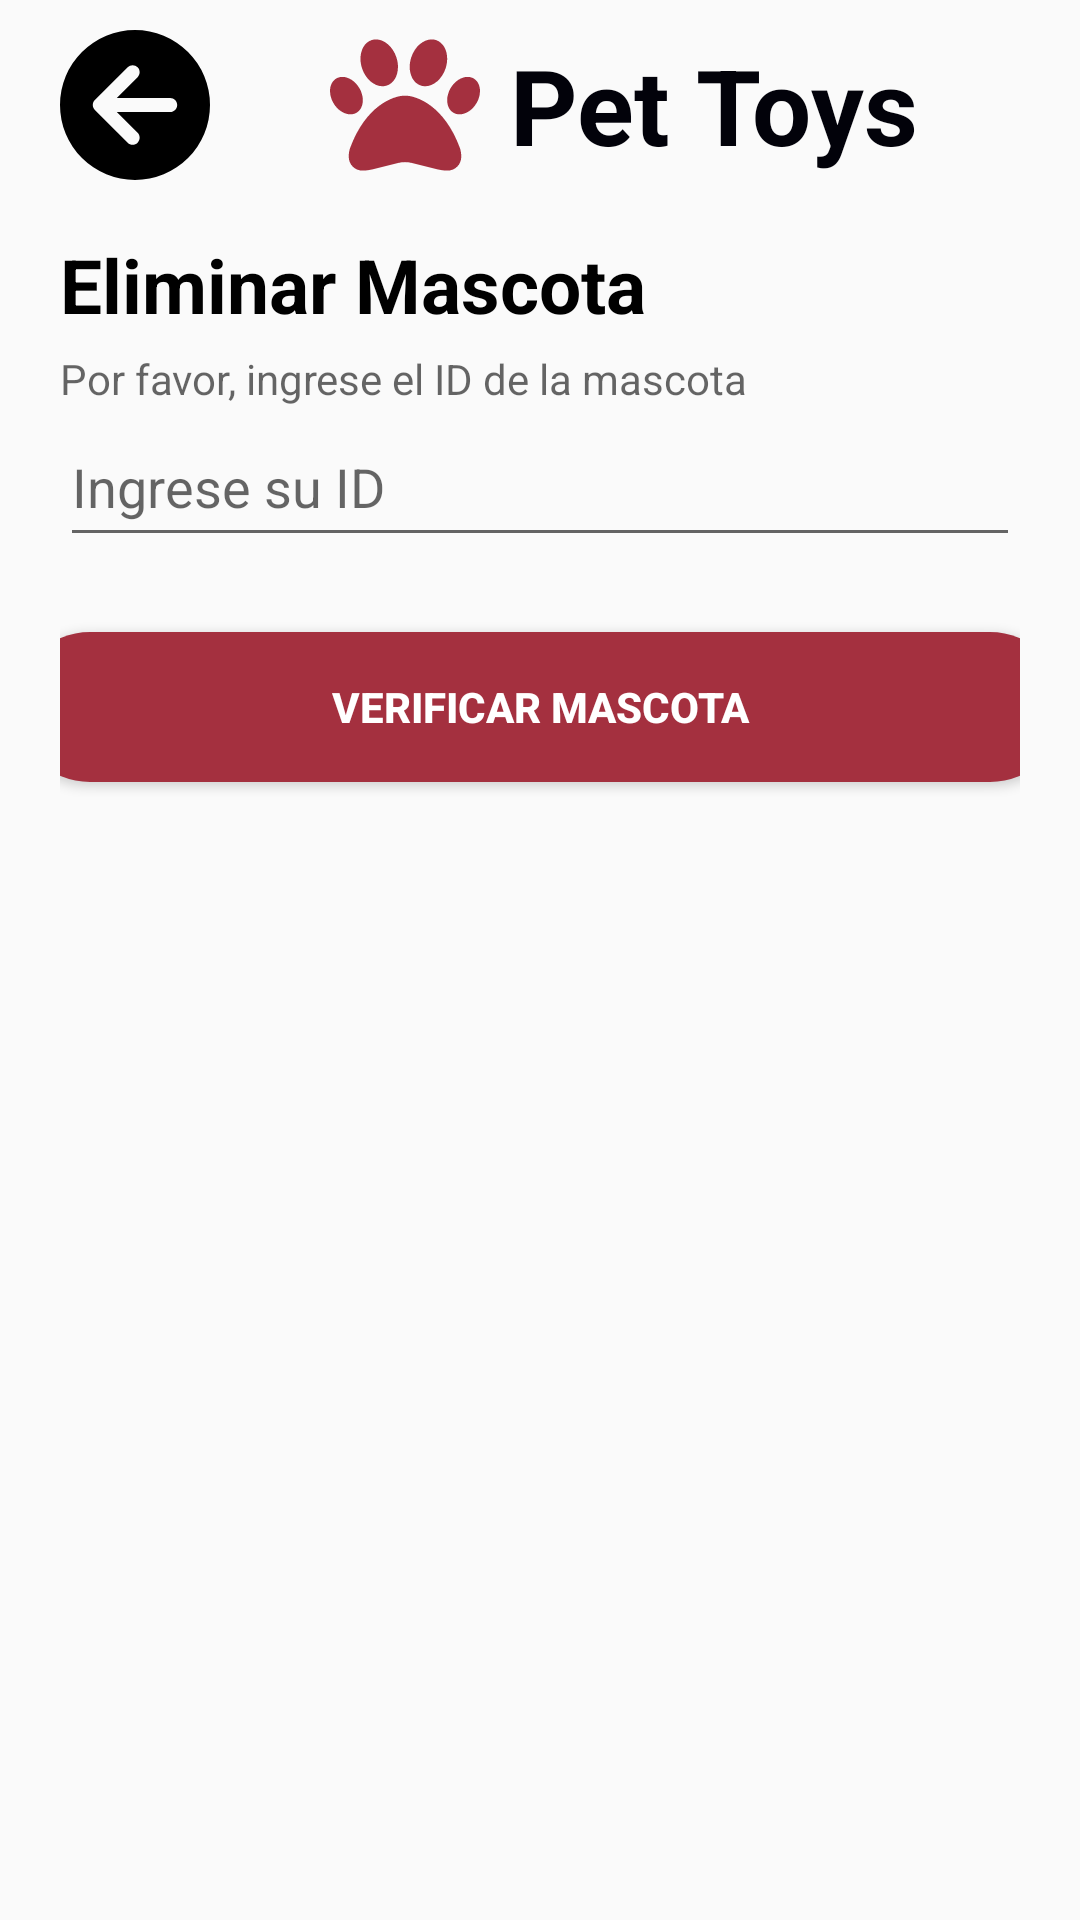

Named icons in this screenshot (1080px×1920px) and their bounding boxes, (x1, y1, x2, y2):
paw: (330, 39, 480, 171)
